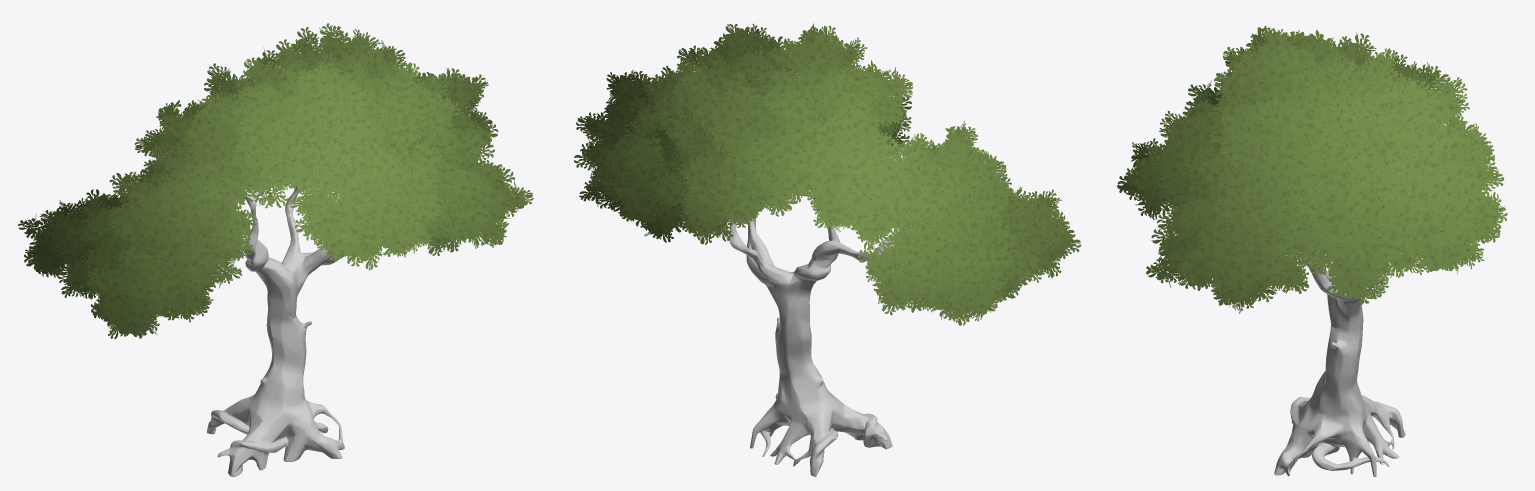
The model's file is Tree01.fbx.
The picture shows the model from 3 angles, left to right: view 1: azimuth 30°, elevation 25°; view 2: azimuth 150°, elevation 25°; view 3: azimuth 270°, elevation 25°; orthographic projection. The views are drawn at different scales.
Visible parts, largest first — view 1: Tree01LOD0; view 2: Tree01LOD0; view 3: Tree01LOD0.
Boxes of the visible parts, x1,y1,x2,y2 form: Tree01LOD0: [18, 23, 533, 476]; Tree01LOD0: [573, 23, 1081, 476]; Tree01LOD0: [1117, 25, 1507, 476].
Size of what is drawn, in the model's own units: 1076 by 1273 by 901.
